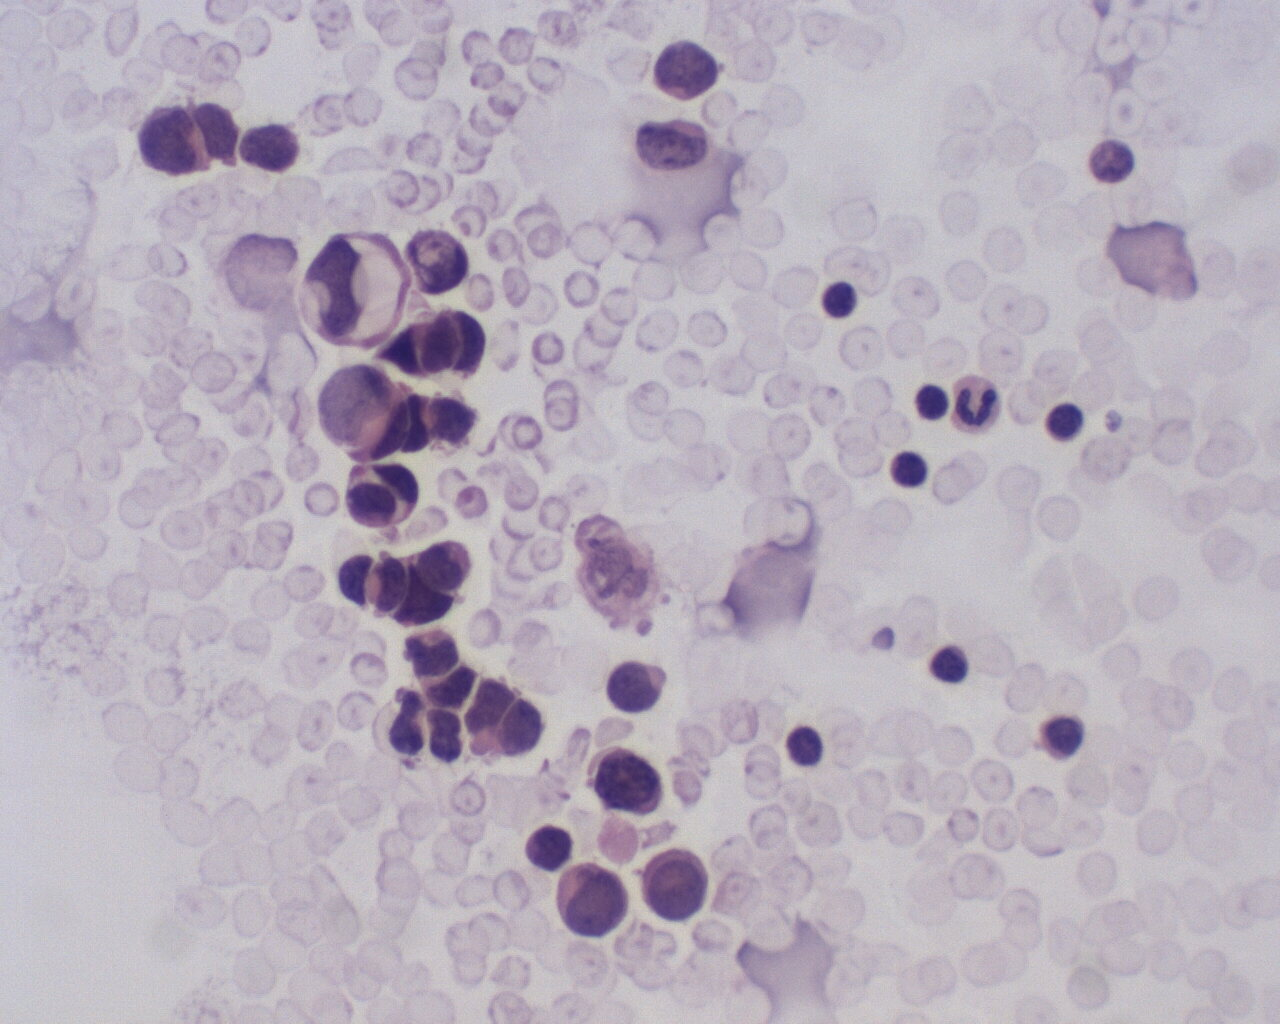ab: (300, 223, 412, 350), (315, 360, 408, 464), (460, 669, 551, 764), (581, 738, 665, 820), (554, 859, 631, 940), (134, 103, 211, 176), (650, 30, 723, 102), (641, 850, 709, 924)
lymph: (887, 446, 932, 494), (927, 641, 969, 686), (822, 279, 862, 320)
